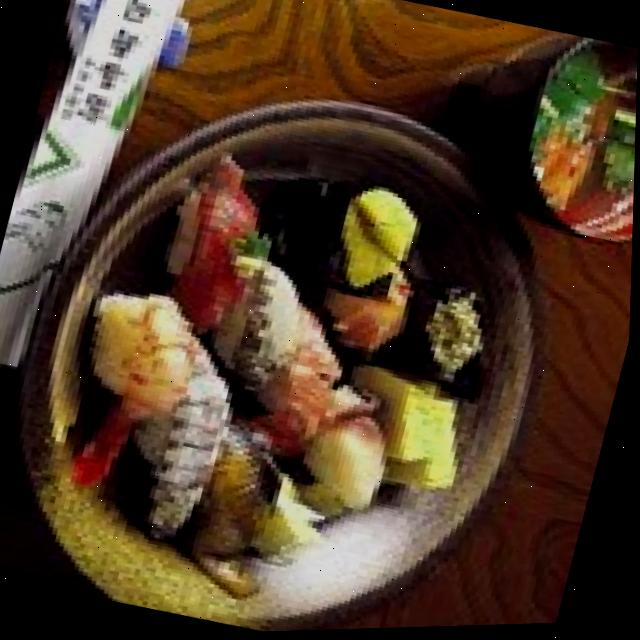寿司卷物: (0, 72, 575, 640)
